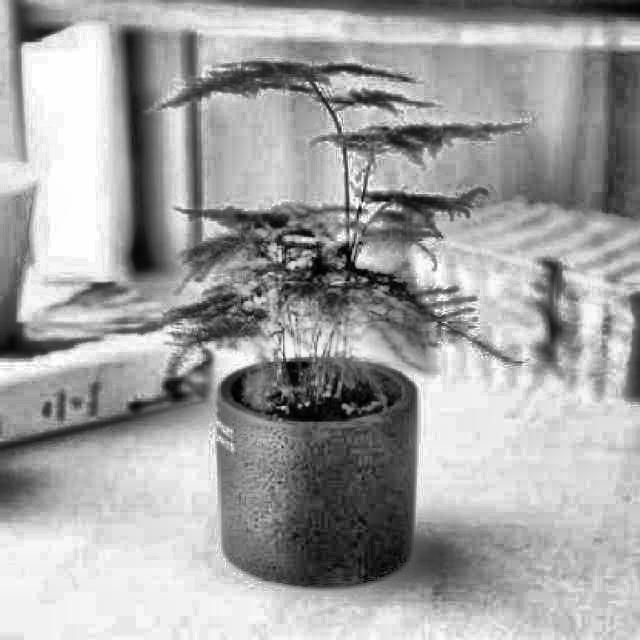plants: (199, 206, 415, 560)
